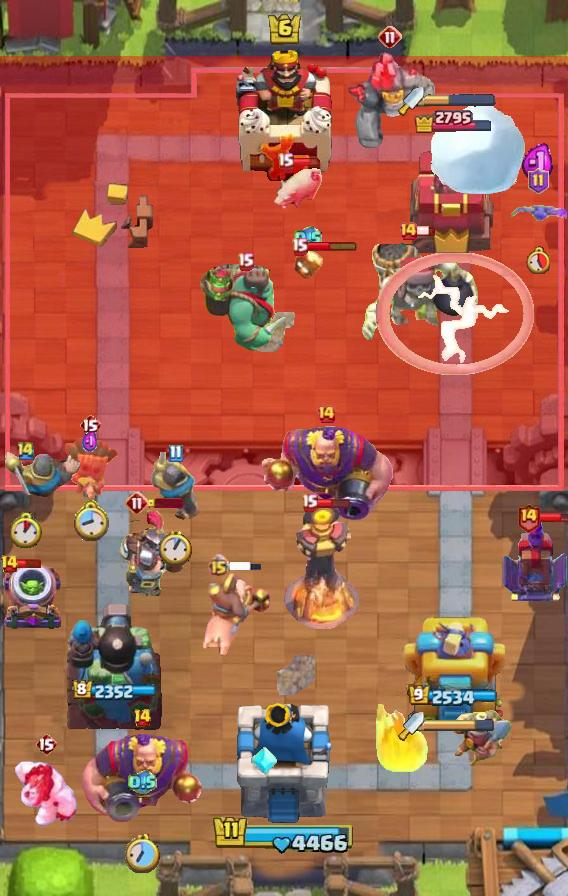bandit: (448, 708, 514, 770)
bar: (401, 611, 505, 731), (409, 138, 497, 256)
barbarian: (509, 199, 567, 225)
barbarian-evolution: (376, 253, 534, 375)
bomber: (292, 247, 324, 281)
cannoneer-tower: (343, 51, 437, 151)
clock: (212, 814, 356, 856)
electro-dragon: (282, 503, 360, 629)
electro-giant: (359, 228, 481, 344)
electro-spirit: (520, 143, 556, 182), (294, 225, 322, 251), (128, 770, 156, 795), (82, 430, 98, 454)
elixir: (71, 498, 109, 541), (124, 834, 160, 874), (159, 530, 193, 566), (10, 512, 42, 548), (526, 246, 550, 274)
emote: (305, 240, 359, 252), (227, 560, 263, 572), (316, 497, 351, 509), (538, 511, 568, 525), (8, 558, 42, 569), (147, 498, 183, 508), (291, 157, 323, 167), (416, 225, 436, 237)
firecracker: (0, 451, 86, 503), (150, 452, 201, 522)
fisherman: (257, 312, 295, 352), (277, 655, 315, 695)
freeze: (199, 570, 273, 658)
giant: (271, 162, 323, 212)
goblin-barrel: (61, 437, 119, 503)
goblin-cage: (0, 562, 64, 632)
ice-spirit-evolution-symbol: (500, 517, 568, 603)
king-tower: (232, 45, 336, 181), (235, 703, 333, 826)
king-tower-bar: (424, 93, 496, 107), (424, 719, 494, 733)
lava-hound: (198, 261, 292, 355)
lightning: (258, 424, 394, 522), (77, 733, 207, 825)
pad_2: (250, 745, 278, 777)
rage: (13, 760, 79, 828)
selected: (408, 685, 498, 708), (414, 108, 495, 133), (71, 680, 156, 702)
text: (515, 503, 540, 533), (378, 25, 402, 49), (125, 491, 149, 515), (527, 168, 548, 194), (207, 554, 230, 577), (79, 413, 101, 437), (35, 732, 57, 756), (16, 439, 36, 461), (398, 221, 418, 241), (316, 404, 336, 424), (132, 708, 152, 728), (1, 554, 20, 574), (277, 153, 295, 172), (291, 237, 309, 256), (238, 253, 255, 272), (302, 493, 319, 511), (169, 444, 183, 463)
tower-bar: (64, 601, 164, 731)
valkyrie: (371, 704, 431, 774)
wall-breaker: (429, 101, 526, 196)
wall-breaker-evolution: (117, 507, 185, 602)
